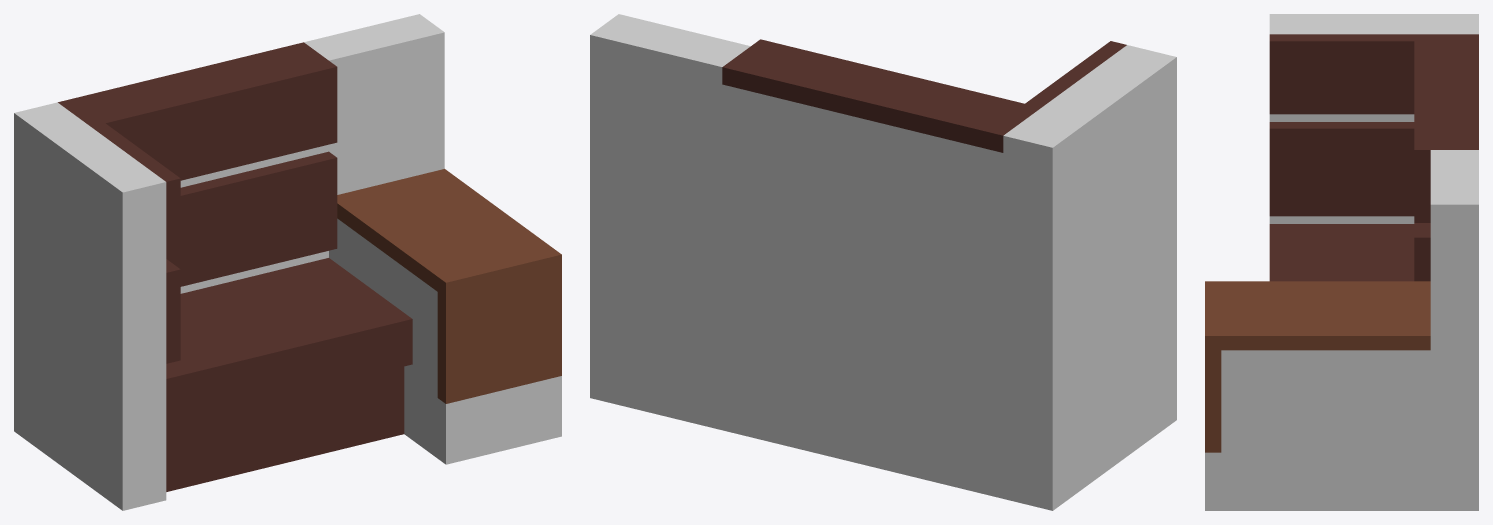
File: business_class_seat.gltf
The picture shows the model from 3 angles, left to right: view 1: azimuth 30°, elevation 25°; view 2: azimuth 150°, elevation 25°; view 3: azimuth 270°, elevation 25°; orthographic projection. The views are drawn at different scales.
Visible parts, largest first — view 1: Layer.1; view 2: Layer.1; view 3: Layer.1.
Boxes of the visible parts, x1,y1,x2,y2 form: Layer.1: (14,14,561,510); Layer.1: (590,14,1176,510); Layer.1: (1205,14,1478,510).
Size of the model in its own units: 28 by 21 by 17.
